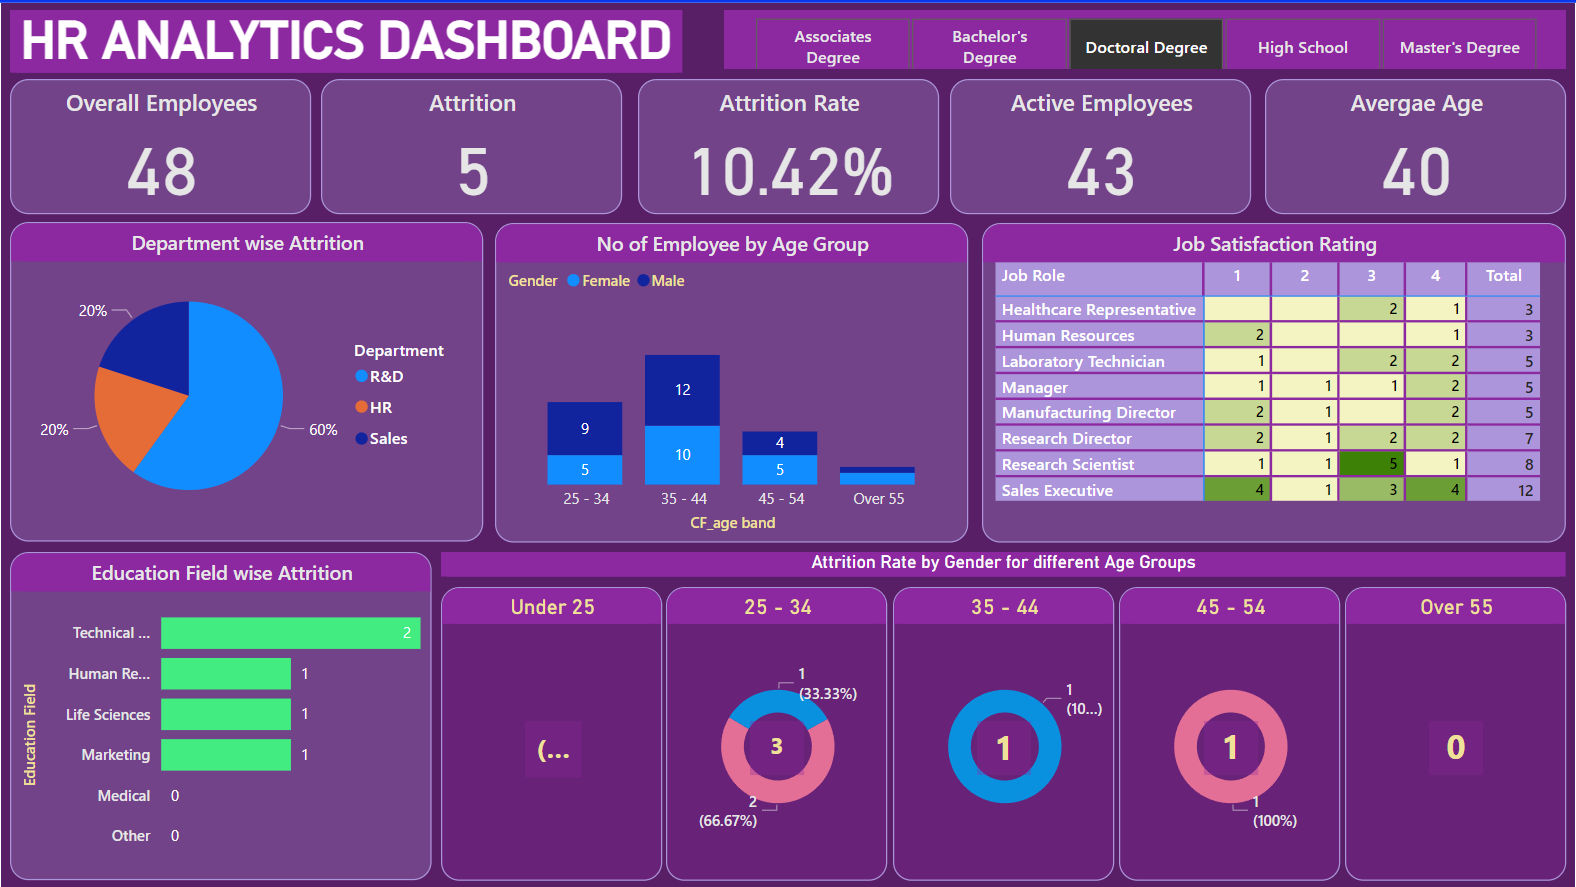

Layout of this report page (visuals, bound fields, positions):
{"tool":"powerbi","page":{"name":"Page 1","canvas":[1280,720],"ordinal":0},"visuals":[{"type":"card","title":"Overall Employees","fields":{"Values":["Sum(HR data.Employee Count)"]},"box":[7.1,62.2,244.7,110],"z":0},{"type":"card","title":"Attrition","fields":{"Values":["Sum(HR data.Attrition Count)"]},"box":[260.7,62.2,244.7,110],"z":1000},{"type":"card","title":"Attrition Rate","fields":{"Values":["Key Measures.Attrition_rate"]},"box":[517.8,62.2,244.7,110],"z":2000},{"type":"card","title":"Active Employees","fields":{"Values":["Key Measures.Active Employees"]},"box":[772.3,62.1,244.7,110],"z":3000},{"type":"card","title":"Avergae Age","fields":{"Values":["Avg(HR data.Age)"]},"box":[1028.6,62.2,245,110],"z":4000},{"type":"pieChart","title":"Department wise Attrition","fields":{"Category":["HR data.Department"],"Y":["Sum(HR data.Attrition Count)"]},"box":[7.1,178.3,384.8,259.8],"z":5000},{"type":"columnChart","title":"No of Employee by Age Group","fields":{"Category":["HR data.CF_age band"],"Y":["Sum(HR data.Employee Count)"],"Series":["HR data.Gender"]},"box":[401.7,179.2,384.8,259.8],"z":6000},{"type":"pivotTable","title":"Job Satisfaction Rating","fields":{"Rows":["HR data.Job Role"],"Columns":["HR data.Job Satisfaction"],"Values":["Sum(HR data.Employee Count)"]},"box":[798,179.2,475.3,259.8],"z":7000},{"type":"barChart","title":"Education Field wise Attrition","fields":{"Category":["HR data.Education Field"],"Y":["Sum(HR data.Attrition Count)"]},"box":[7.1,446.9,343.2,266.9],"z":8000},{"type":"donutChart","title":"Under 25","fields":{"Category":["HR data.Gender"],"Y":["Sum(HR data.Attrition Count)"],"Series":["HR data.CF_age band"]},"box":[358.2,475.3,180,238.5],"z":9000},{"type":"textbox","title":"Attrition Rate by Gender for different Age Groups","box":[358.2,446.9,915.1,20.4],"z":10000},{"type":"donutChart","title":"35 - 44","fields":{"Category":["HR data.Gender"],"Y":["Sum(HR data.Attrition Count)"],"Series":["HR data.CF_age band"]},"box":[725.3,475.3,180,238.5],"z":11000},{"type":"donutChart","title":"25 - 34","fields":{"Category":["HR data.Gender"],"Y":["Sum(HR data.Attrition Count)"],"Series":["HR data.CF_age band"]},"box":[540.9,475.3,180,238.5],"z":12000},{"type":"donutChart","title":"45 - 54","fields":{"Category":["HR data.Gender"],"Y":["Sum(HR data.Attrition Count)"],"Series":["HR data.CF_age band"]},"box":[909.8,475.3,180,238.5],"z":13000},{"type":"donutChart","title":"Over 55","fields":{"Category":["HR data.Gender"],"Y":["Sum(HR data.Attrition Count)"],"Series":["HR data.CF_age band"]},"box":[1093.3,475.3,180,238.5],"z":14000},{"type":"card","fields":{"Values":["Sum(HR data.Attrition Count)"]},"box":[426.5,584.3,46.1,46.1],"z":14001},{"type":"card","fields":{"Values":["Sum(HR data.Attrition Count)"]},"box":[609.2,584.4,43.7,43.7],"z":14002},{"type":"card","fields":{"Values":["Sum(HR data.Attrition Count)"]},"box":[793.8,584.4,44,44],"z":14003},{"type":"card","fields":{"Values":["Sum(HR data.Attrition Count)"]},"box":[978.4,584.4,43.7,43.7],"z":14004},{"type":"card","fields":{"Values":["Sum(HR data.Attrition Count)"]},"box":[1161.9,584.4,43.7,43.7],"z":14005},{"type":"textbox","title":"HR ANALYTICS DASHBOARD","box":[7.1,5.3,547.1,51.4],"z":14006},{"type":"slicer","fields":{"Values":["HR data.Education"]},"box":[587.9,5.3,685.4,47.9],"z":14007}]}

Visuals, with their boxes in screenshot pixels (x1, y1, x2, y2), scaled from the page's 1280x720 canvas onto the 1576x887 screenshot:
"Overall Employees" card: bbox=(9, 77, 310, 212)
"Attrition" card: bbox=(321, 77, 622, 212)
"Attrition Rate" card: bbox=(638, 77, 939, 212)
"Active Employees" card: bbox=(951, 77, 1252, 212)
"Avergae Age" card: bbox=(1266, 77, 1568, 212)
"Department wise Attrition" pieChart: bbox=(9, 220, 483, 540)
"No of Employee by Age Group" columnChart: bbox=(495, 221, 968, 541)
"Job Satisfaction Rating" pivotTable: bbox=(983, 221, 1568, 541)
"Education Field wise Attrition" barChart: bbox=(9, 551, 431, 879)
"Under 25" donutChart: bbox=(441, 586, 663, 879)
"Attrition Rate by Gender for different Age Groups" textbox: bbox=(441, 551, 1568, 576)
"35 - 44" donutChart: bbox=(893, 586, 1115, 879)
"25 - 34" donutChart: bbox=(666, 586, 888, 879)
"45 - 54" donutChart: bbox=(1120, 586, 1342, 879)
"Over 55" donutChart: bbox=(1346, 586, 1568, 879)
card - Sum(HR data.Attrition Count): bbox=(525, 720, 582, 777)
card - Sum(HR data.Attrition Count): bbox=(750, 720, 804, 774)
card - Sum(HR data.Attrition Count): bbox=(977, 720, 1032, 774)
card - Sum(HR data.Attrition Count): bbox=(1205, 720, 1258, 774)
card - Sum(HR data.Attrition Count): bbox=(1431, 720, 1484, 774)
"HR ANALYTICS DASHBOARD" textbox: bbox=(9, 7, 682, 70)
slicer - HR data.Education: bbox=(724, 7, 1568, 66)
